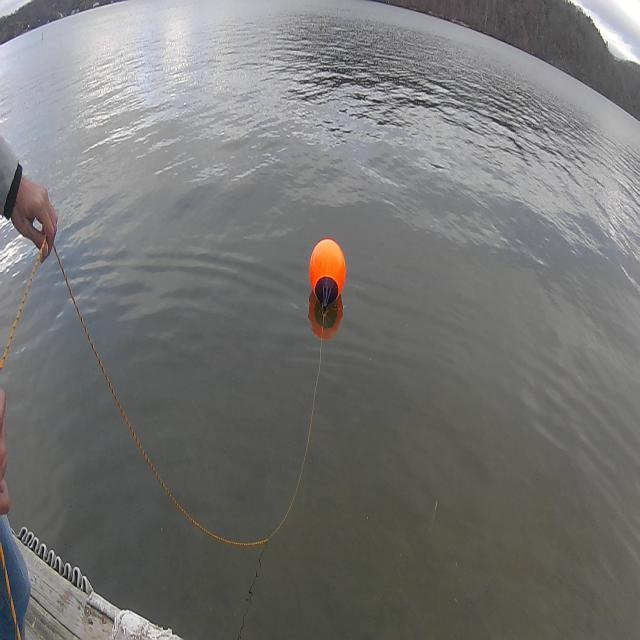Buoy: (306, 228, 348, 317)
